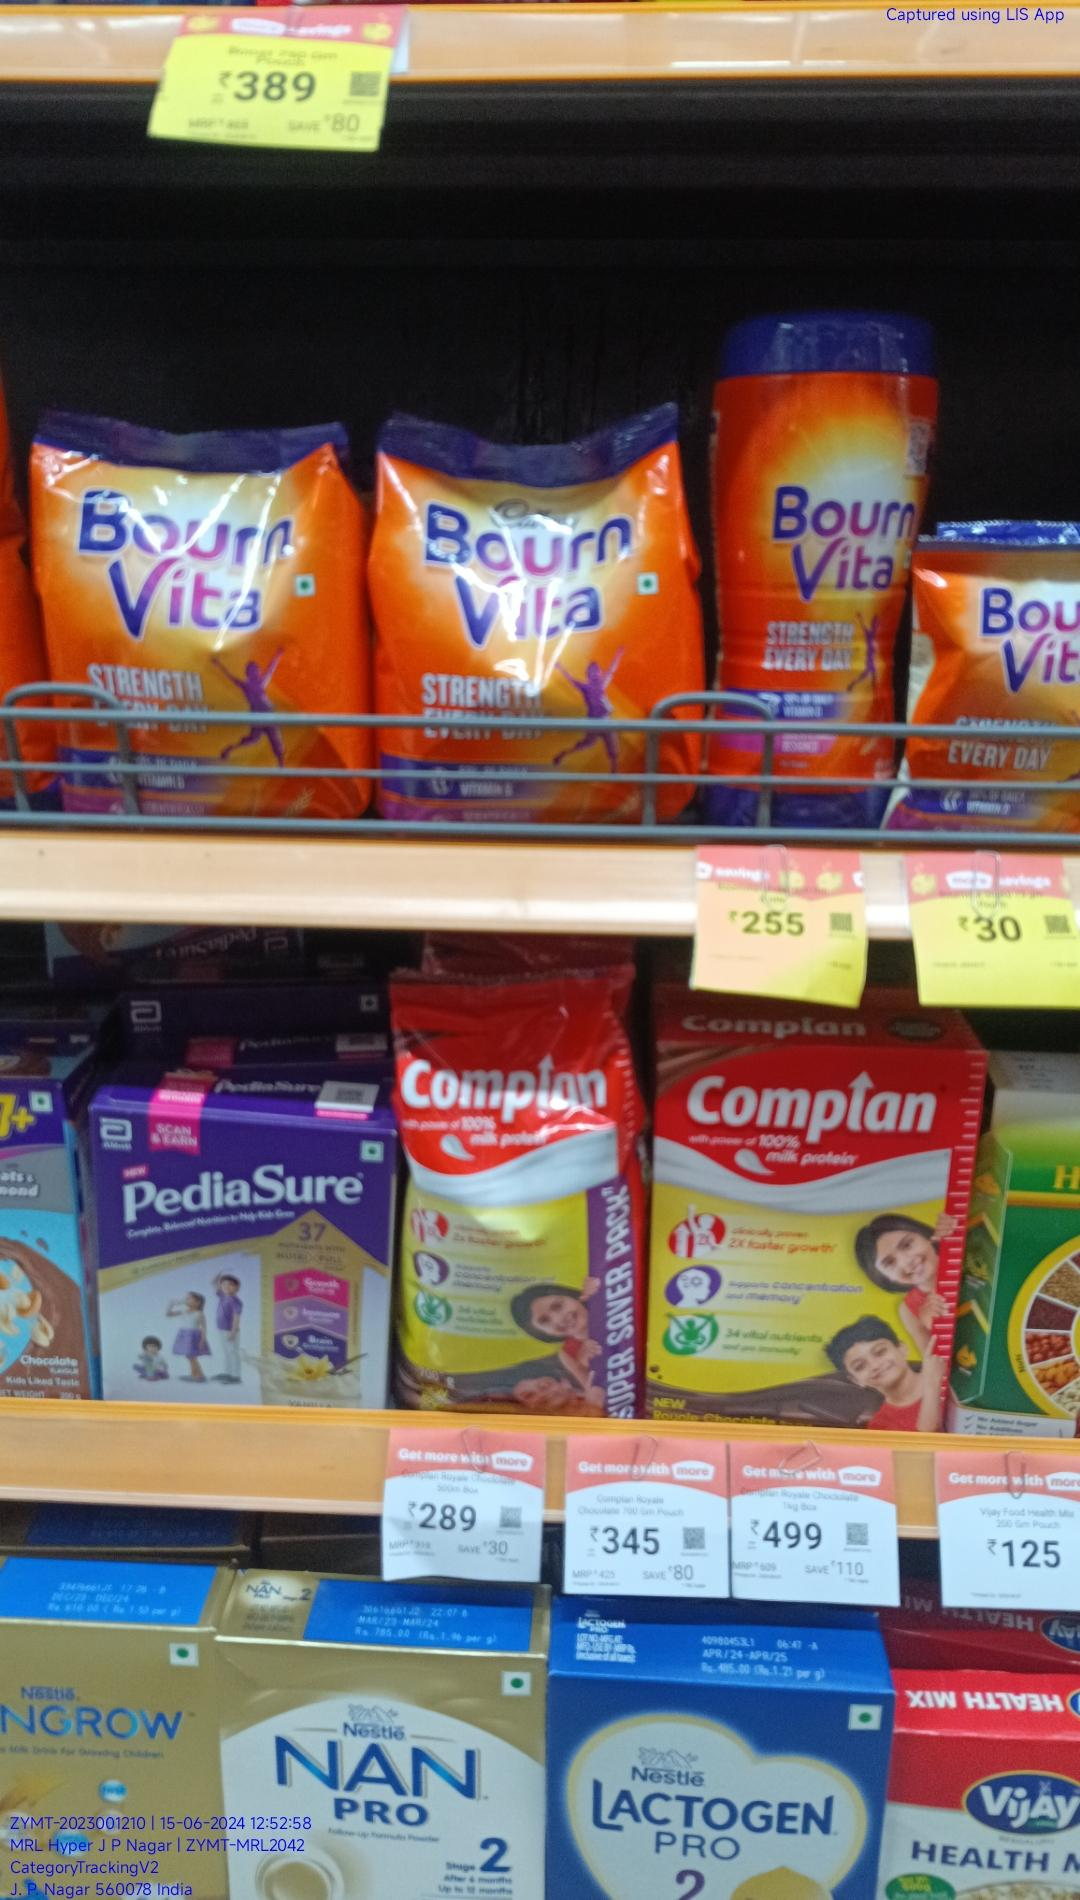BOURN_VITA_500_G_JAR: (711, 321, 909, 826)
BOURN_VITA_500_G_POUCH: (37, 412, 365, 821), (380, 419, 704, 812)
COMPLAN_CHOCOLATE_500_GMS_PACK: (651, 1039, 948, 1433)
COMPLAN_RC_POUCH_700_GMS_12: (400, 989, 642, 1412)
PEDIASURE_VANILLA_500_G_PACK: (90, 1091, 381, 1408)
